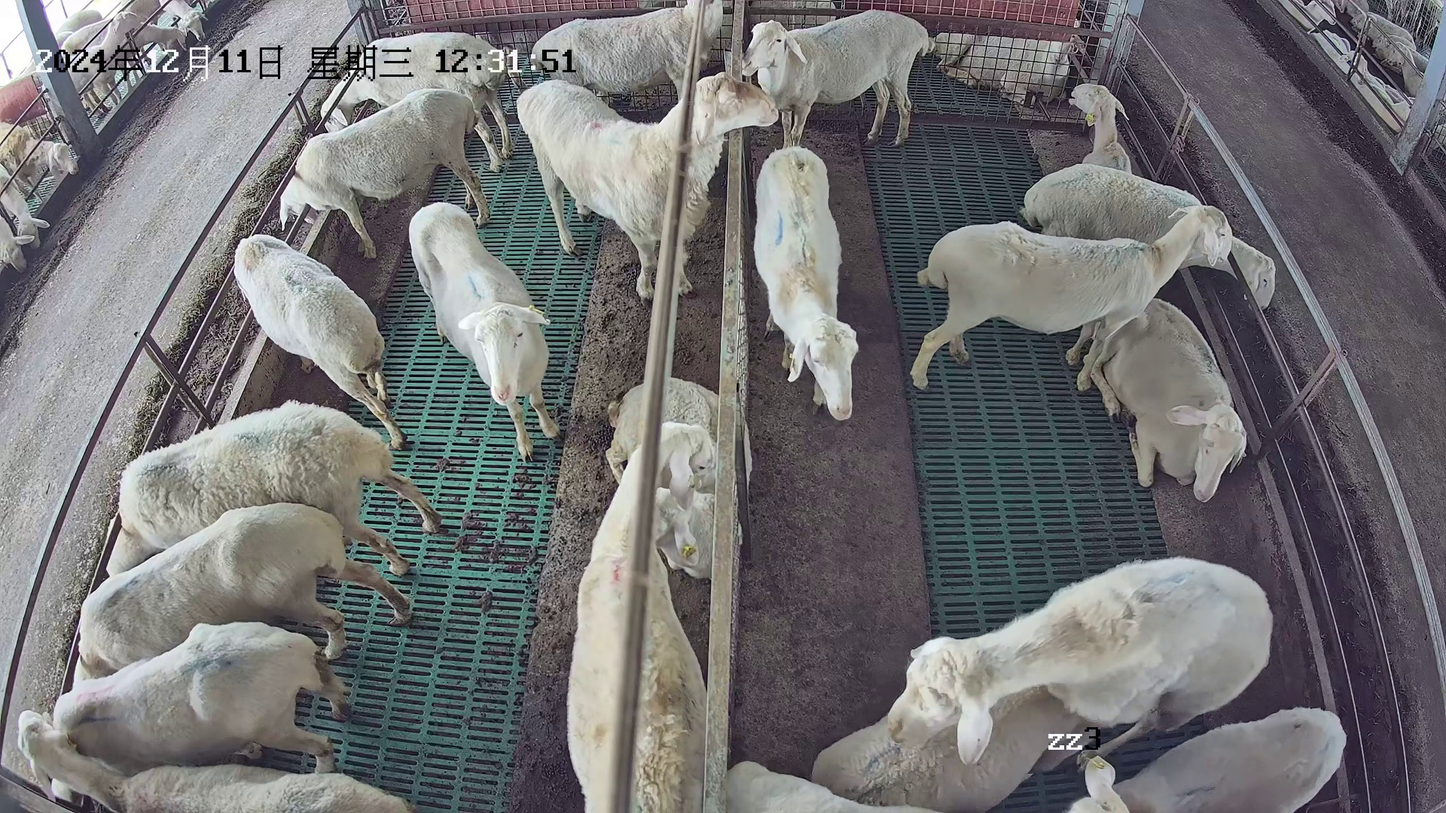Smounting: (807, 556, 1275, 813)
mounted: (810, 682, 1083, 813)
